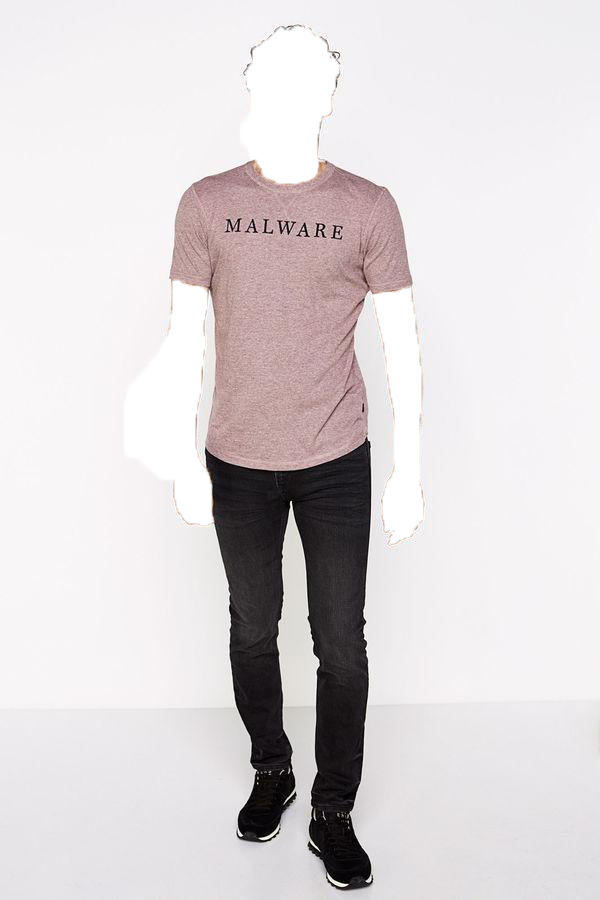teeshirt: (163, 155, 423, 467)
